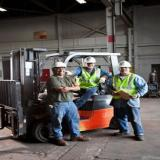Helmet: (49, 61, 68, 68), (82, 56, 98, 64), (116, 60, 132, 68)
Vest: (112, 73, 139, 100), (76, 66, 101, 88)
